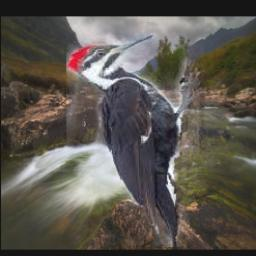Woodpecker: (65, 34, 203, 248)
